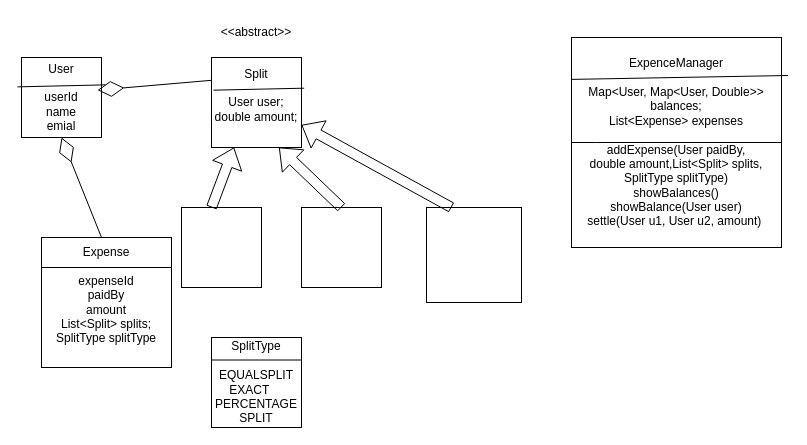
The diagram is 807 pixels wide and 445 high, and some of its shapes have lost their labels. Each missing label, with the box of its shape:
EqualSplit: (180, 206, 262, 288)
ExactSplit: (300, 206, 382, 288)
PercentageSplit: (426, 206, 522, 302)
